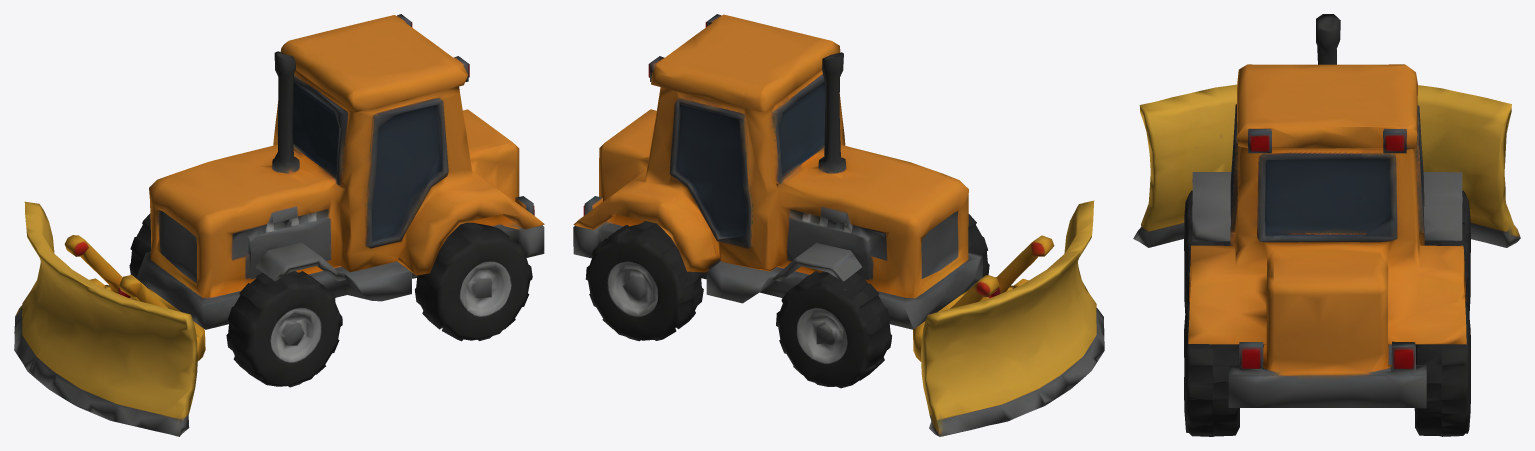
File: plough.glb
3 views of the same model, side by side, from view 1: azimuth 30°, elevation 25°; view 2: azimuth 150°, elevation 25°; view 3: azimuth 270°, elevation 25° (orthographic). The views are drawn at different scales.
Visible parts, largest first — view 1: tripo_node_f89b17b2-491b-433d-98c3-69ed6c895d10; view 2: tripo_node_f89b17b2-491b-433d-98c3-69ed6c895d10; view 3: tripo_node_f89b17b2-491b-433d-98c3-69ed6c895d10.
Boxes of the visible parts, box(x1,y1,x2,y2) form: tripo_node_f89b17b2-491b-433d-98c3-69ed6c895d10: box(14, 14, 544, 436); tripo_node_f89b17b2-491b-433d-98c3-69ed6c895d10: box(573, 14, 1104, 436); tripo_node_f89b17b2-491b-433d-98c3-69ed6c895d10: box(1133, 14, 1520, 436).
Size of the model in its own units: 1 by 0.5885 by 0.6252.
1 material, 1 textured.
